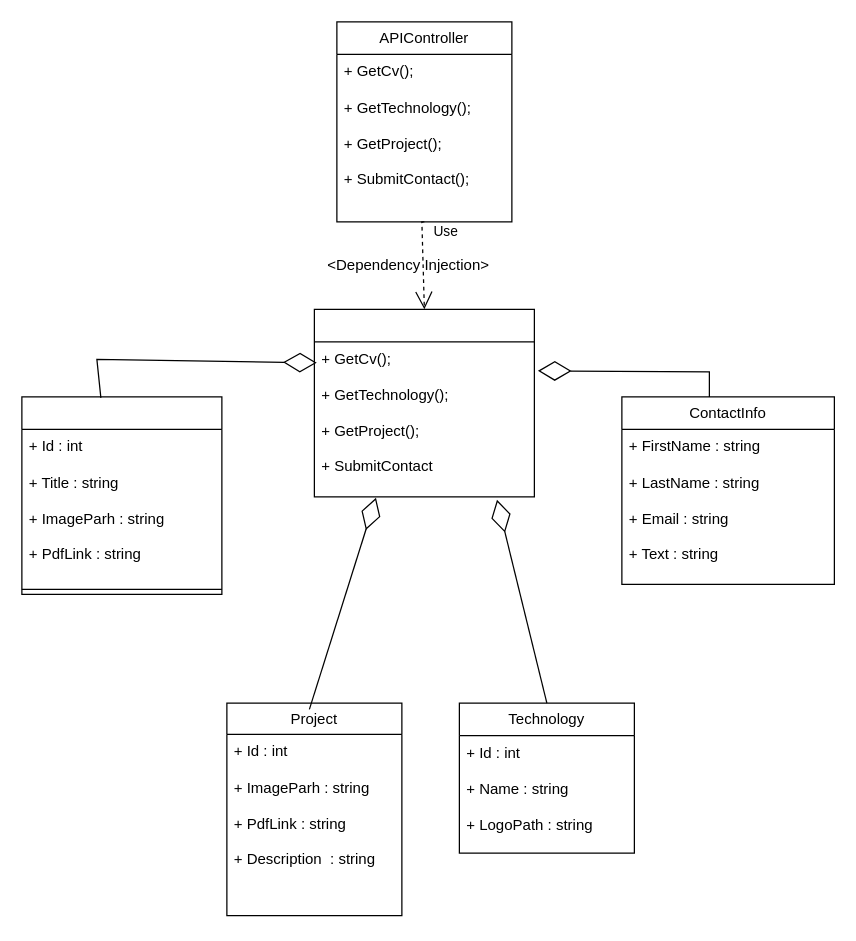
Image size: 856x941. Some labels were removed from this diagram. The box of each missing label's shape, as (x1, y1, x2, y2) in pixels:
Cv: (21, 396, 222, 594)
DALManager: (313, 308, 534, 497)
